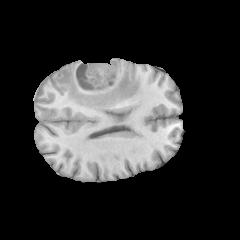glioma: (53, 59, 140, 110)
